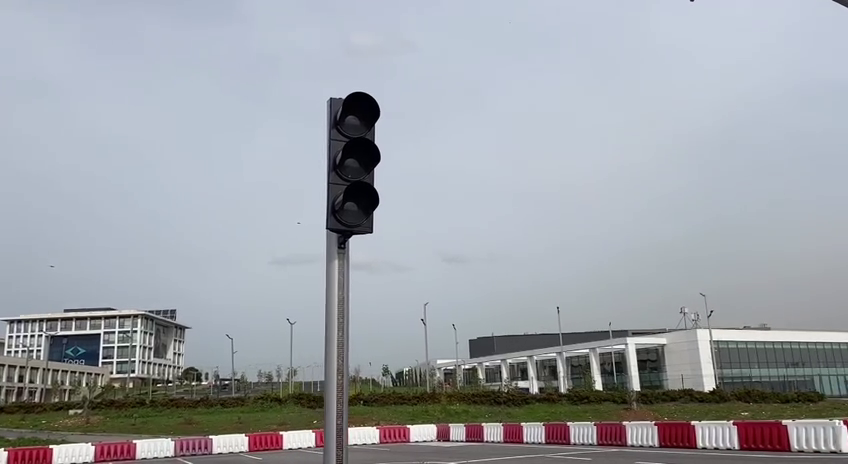trafficLight: (321, 88, 386, 240)
